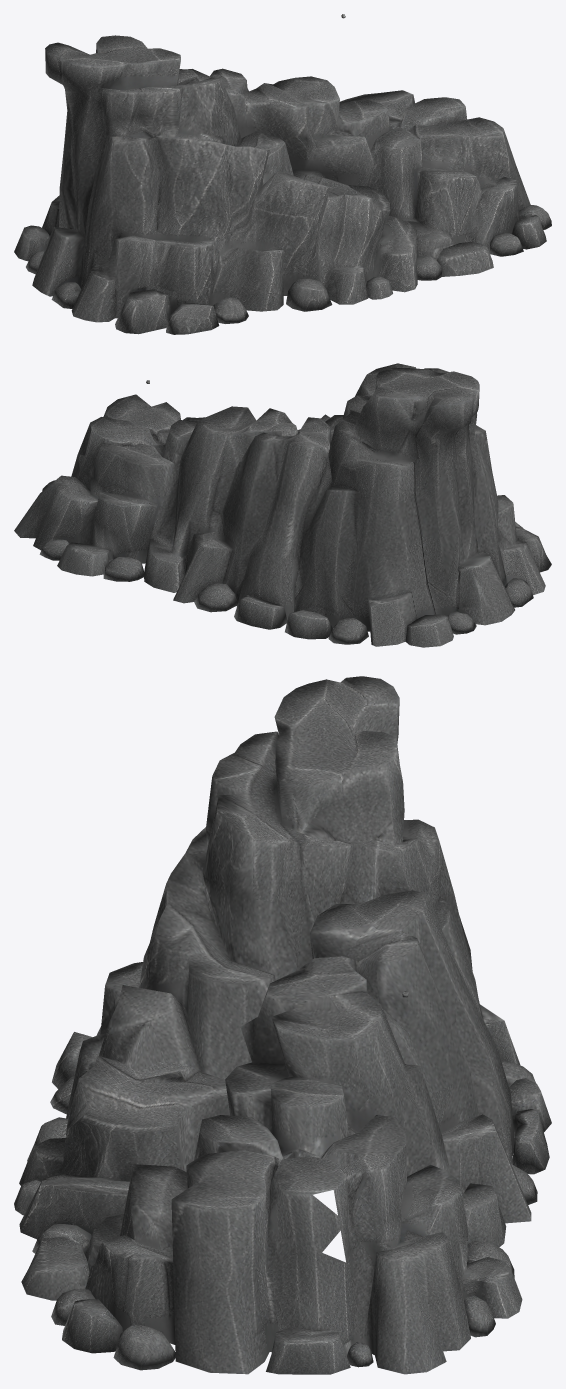
Rendered from rock_crag_high_v1.glb.
The picture shows the model from 3 angles, top to bottom: view 1: azimuth 30°, elevation 25°; view 2: azimuth 150°, elevation 25°; view 3: azimuth 270°, elevation 25°; orthographic projection. The views are drawn at different scales.
Bounding box in the file's own units: 1 × 0.4638 × 0.6307.
1 material, 1 textured.
